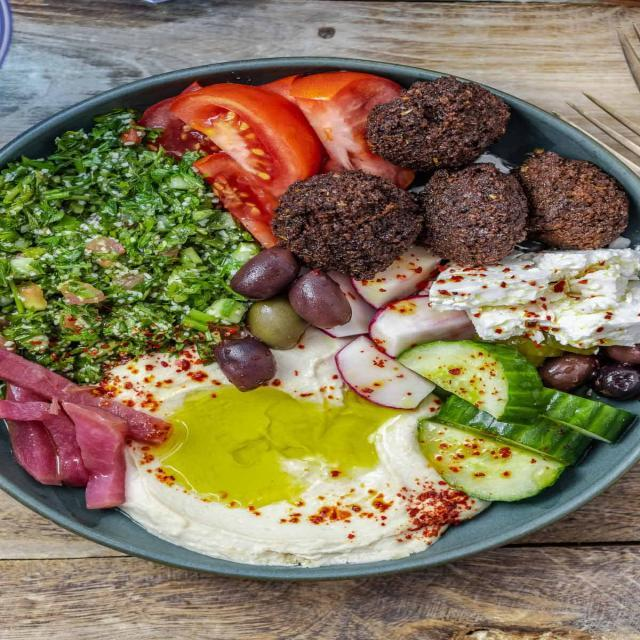flafel: (269, 170, 421, 280), (365, 76, 510, 166), (520, 148, 628, 252), (433, 166, 522, 266)
